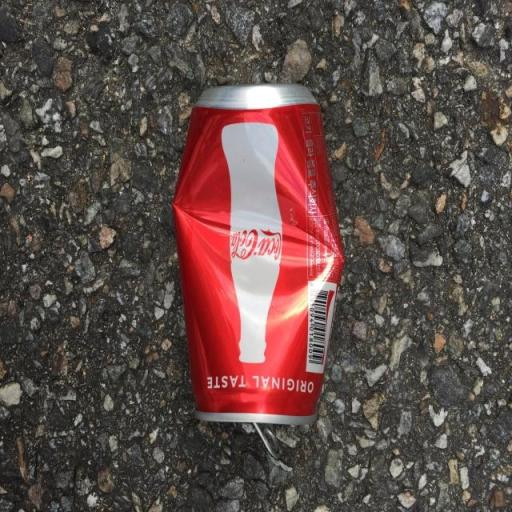metal: (164, 70, 350, 438)
